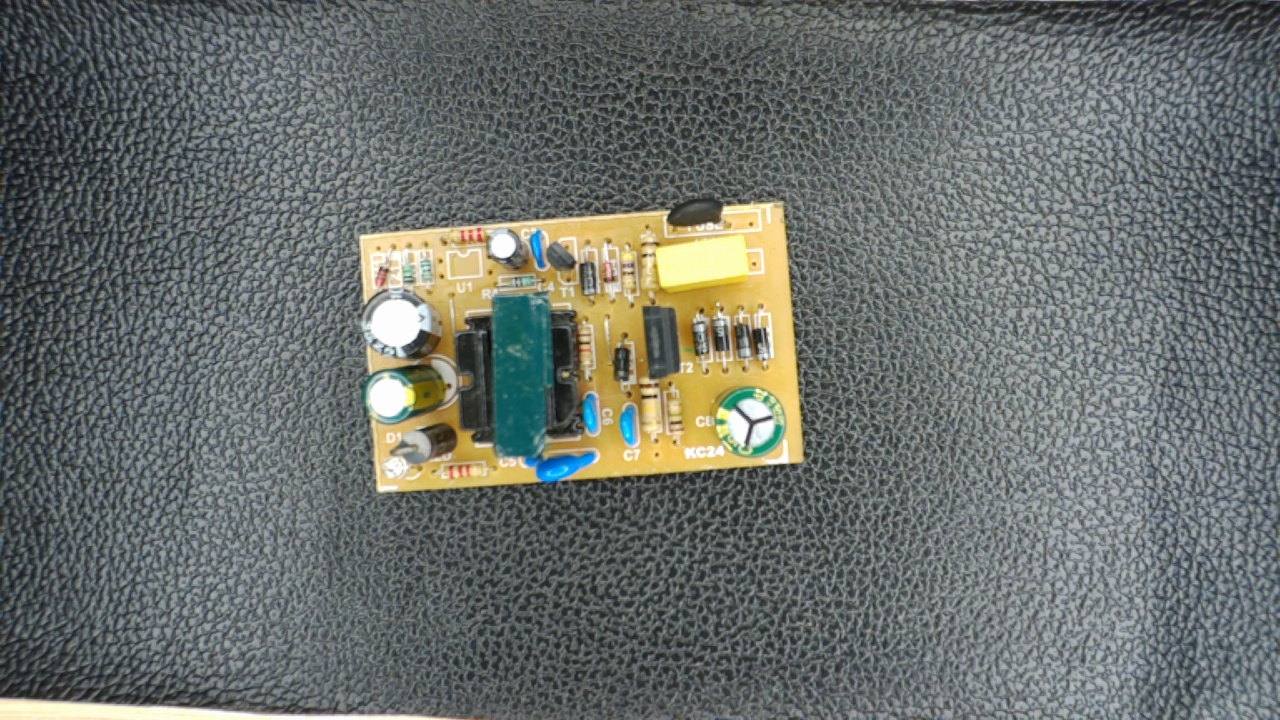fuse: (656, 195, 744, 236)
hv_capacitor: (708, 380, 789, 459)
mov: (512, 443, 600, 482)
